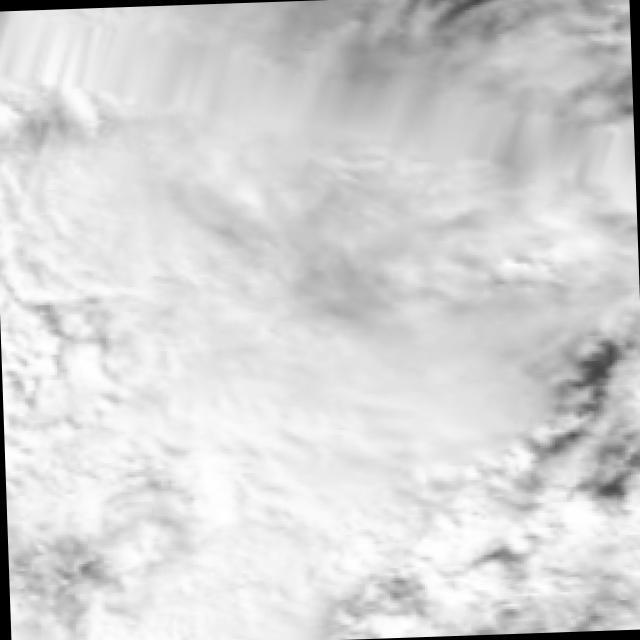CB: (316, 362, 517, 540), (322, 236, 516, 414), (92, 160, 290, 334), (140, 478, 333, 640), (148, 345, 351, 494), (284, 172, 478, 263)
